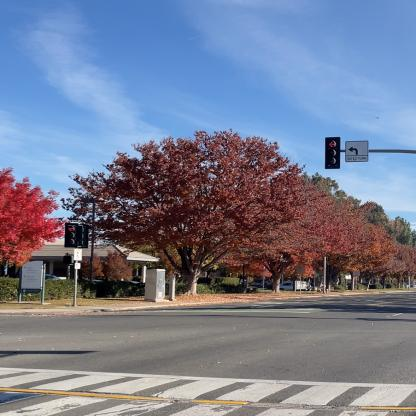left-red: (324, 136, 342, 170), (64, 222, 80, 249)
